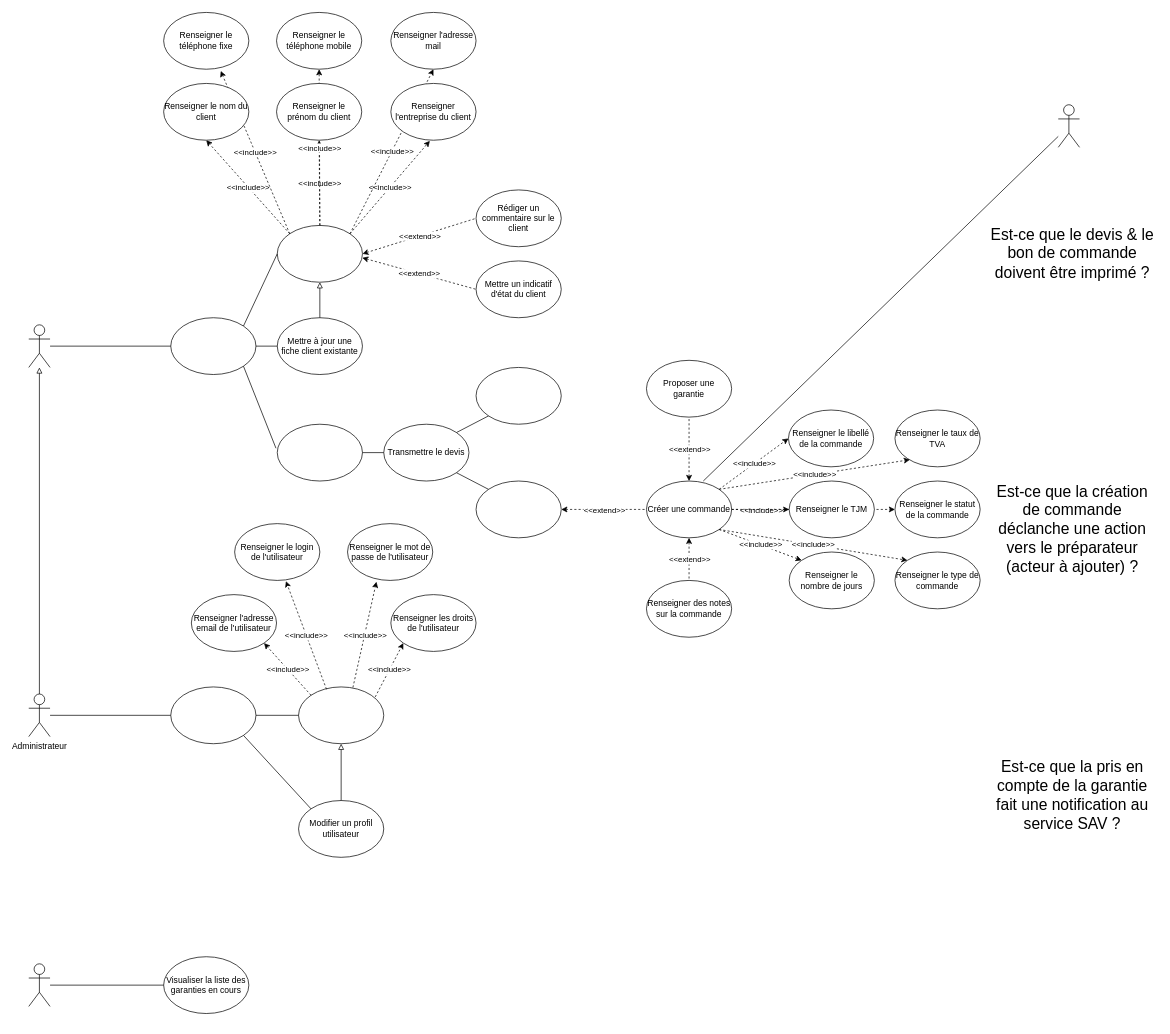
Some shapes in this 1170 by 1034 pixel diagram are drawn without their labels. Here are the shapes that lost their labels. From the top down, the centre of each, then its label:
point (1069, 125): Préparateur de commande
point (319, 253): Créer une nouvelle fiche client
point (39, 345): Utilisateur
point (213, 346): Parcourir la liste des clients
point (518, 395): Archiver le devis
point (319, 452): Créer un nouveau devis pour un client
point (518, 509): Valider le devis
point (213, 715): Parcourir la liste des utilisateurs
point (341, 715): Créer un nouvel utilisateur
point (39, 984): SAV
